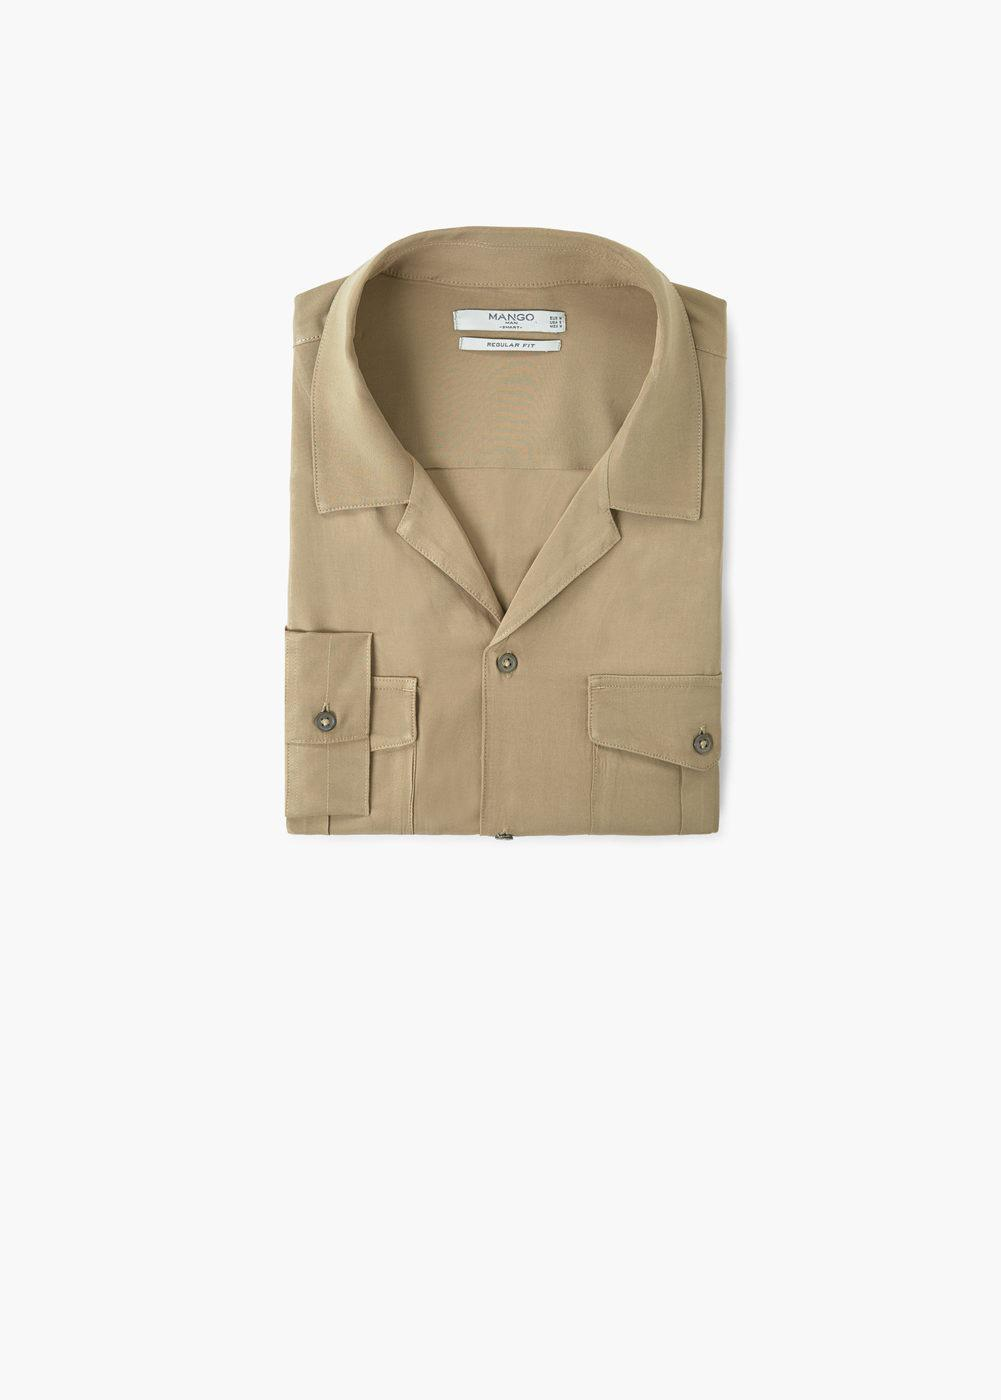teeshirt: (265, 208, 806, 982)
